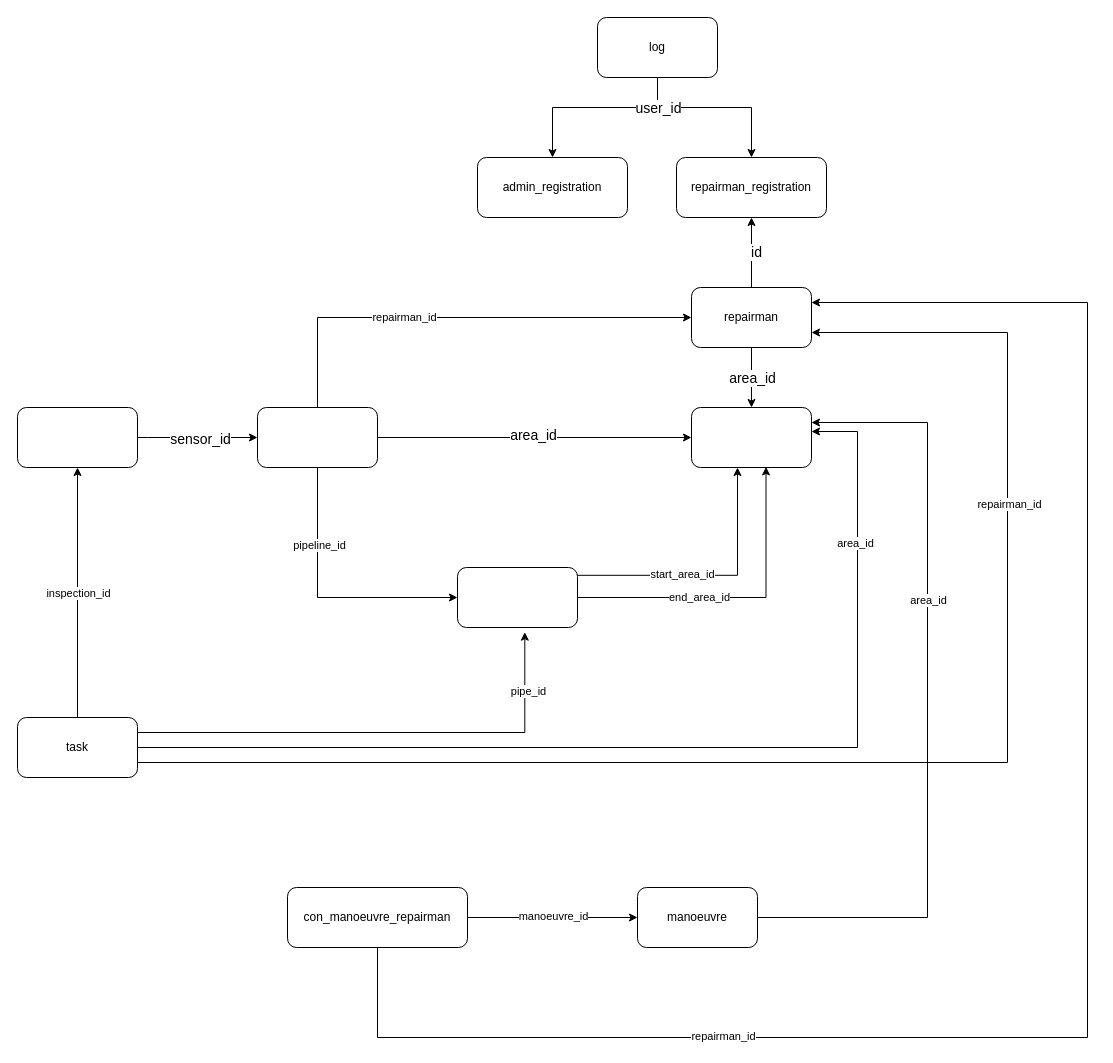
This 1113x1063 diagram has some shape labels left out. Here are the shapes that lost their labels. From the top down, the centre of each, then its label:
At (x=77, y=437): "inspection".
At (x=317, y=437): "sensor".
At (x=751, y=437): "area".
At (x=517, y=597): "pipe".
